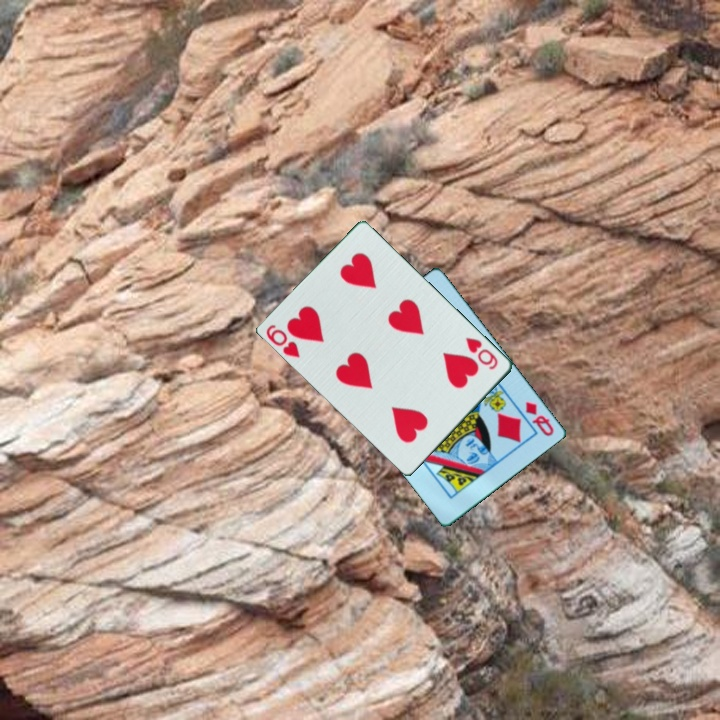6h: (263, 321, 304, 361), (462, 333, 501, 372)
Qd: (521, 398, 556, 439)
